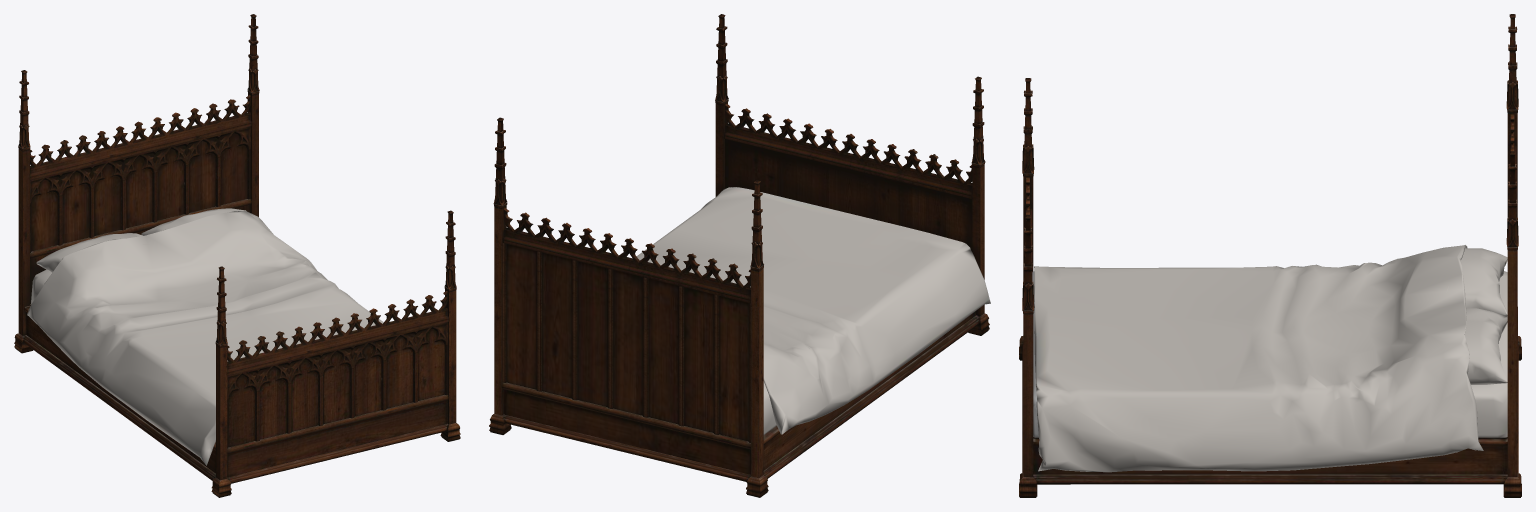
File: gothicbed_01.glb
3 renders of one model, left to right at view 1: azimuth 30°, elevation 25°; view 2: azimuth 150°, elevation 25°; view 3: azimuth 270°, elevation 25°, orthographic. The views are drawn at different scales.
Visible parts, largest first — view 1: GothicBed_01; view 2: GothicBed_01; view 3: GothicBed_01.
Part boxes in pixels (box(x1,y1,x2,y2)): GothicBed_01: box(14, 14, 460, 497); GothicBed_01: box(489, 14, 990, 497); GothicBed_01: box(1019, 14, 1521, 497).
Bounding box in the file's own units: 1.49 × 1.53 × 2.04.
1 material, 1 textured.
